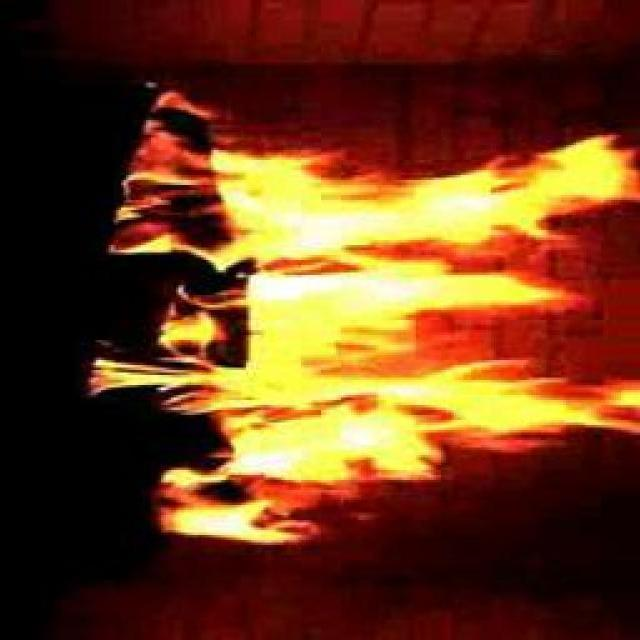Fire: (158, 156, 593, 542)
